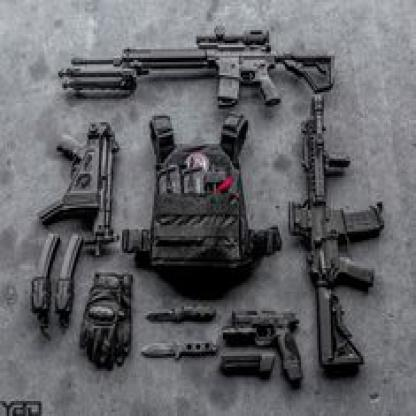Gun: (288, 93, 386, 370), (59, 23, 335, 110), (37, 120, 123, 259)
Knife: (140, 338, 221, 364), (145, 300, 218, 325)
Pistol: (220, 306, 304, 388)
